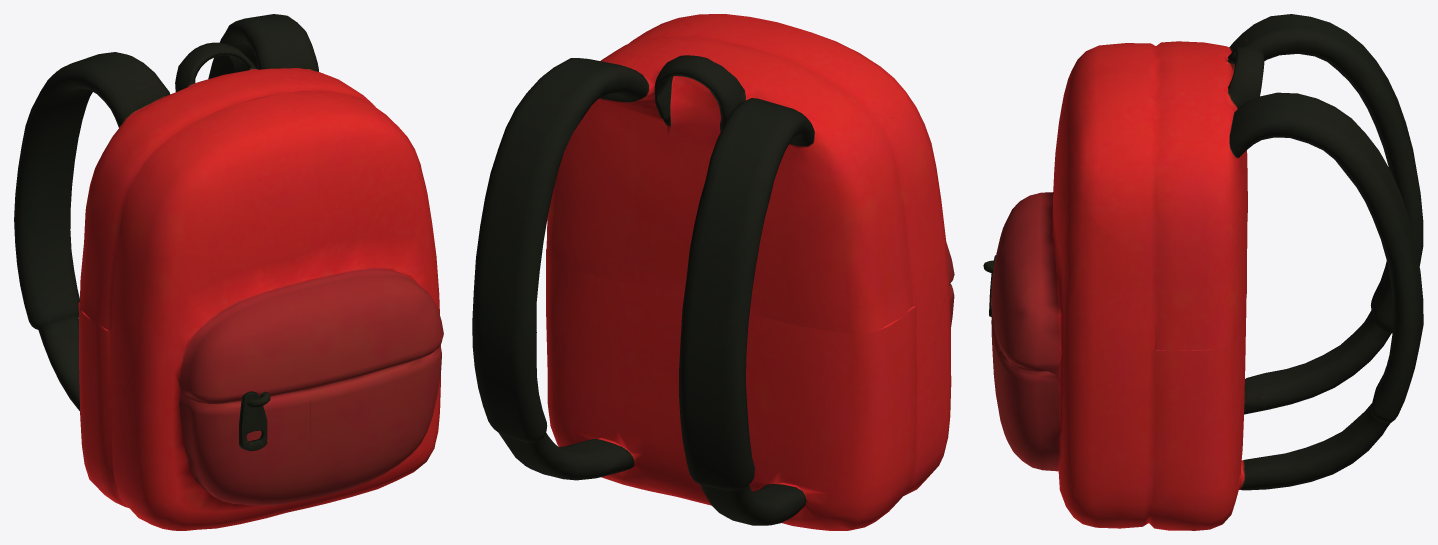
Rendered from back_pack.glb.
3 renders of one model, left to right at view 1: azimuth 30°, elevation 25°; view 2: azimuth 150°, elevation 25°; view 3: azimuth 270°, elevation 25°, orthographic. The views are drawn at different scales.
Visible parts, largest first — view 1: geometry_0; view 2: geometry_0; view 3: geometry_0.
Boxes of the visible parts, x1=… form: geometry_0: x1=14, y1=14, x2=443, y2=530; geometry_0: x1=472, y1=14, x2=954, y2=530; geometry_0: x1=983, y1=14, x2=1423, y2=530.
Size of the model in its own units: 0.7358 by 0.9507 by 0.8828.
Materials: 1 (1 with a texture image).
